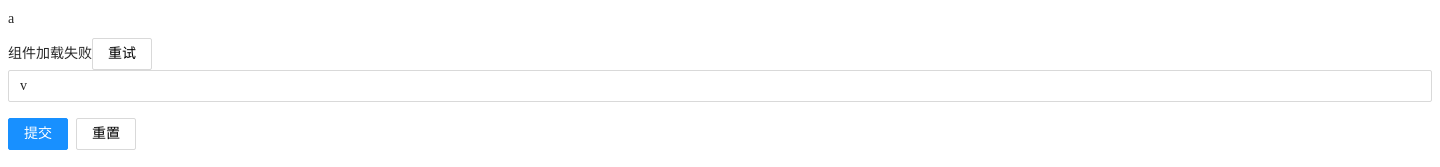
懒加载组件(W7, F9) › 加载失败: 显示提示与重试, 同时按 F4 降级为下一个候选并上报 F9; 重试成功后换回
The image size is (1440, 167).
Expected: the message reads "组件加载失败", [8,46,92,61]
Click the button "重试".
click(122, 54)  # box [92,38,152,70]
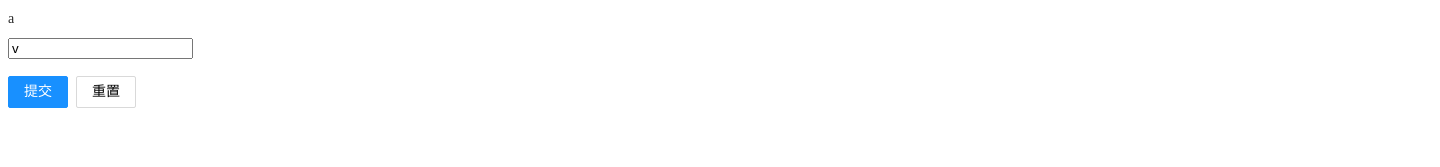
Now the field with test id "fancy" holds "v", box [8,38,193,59]
Now the text "组件加载失败" is gone
